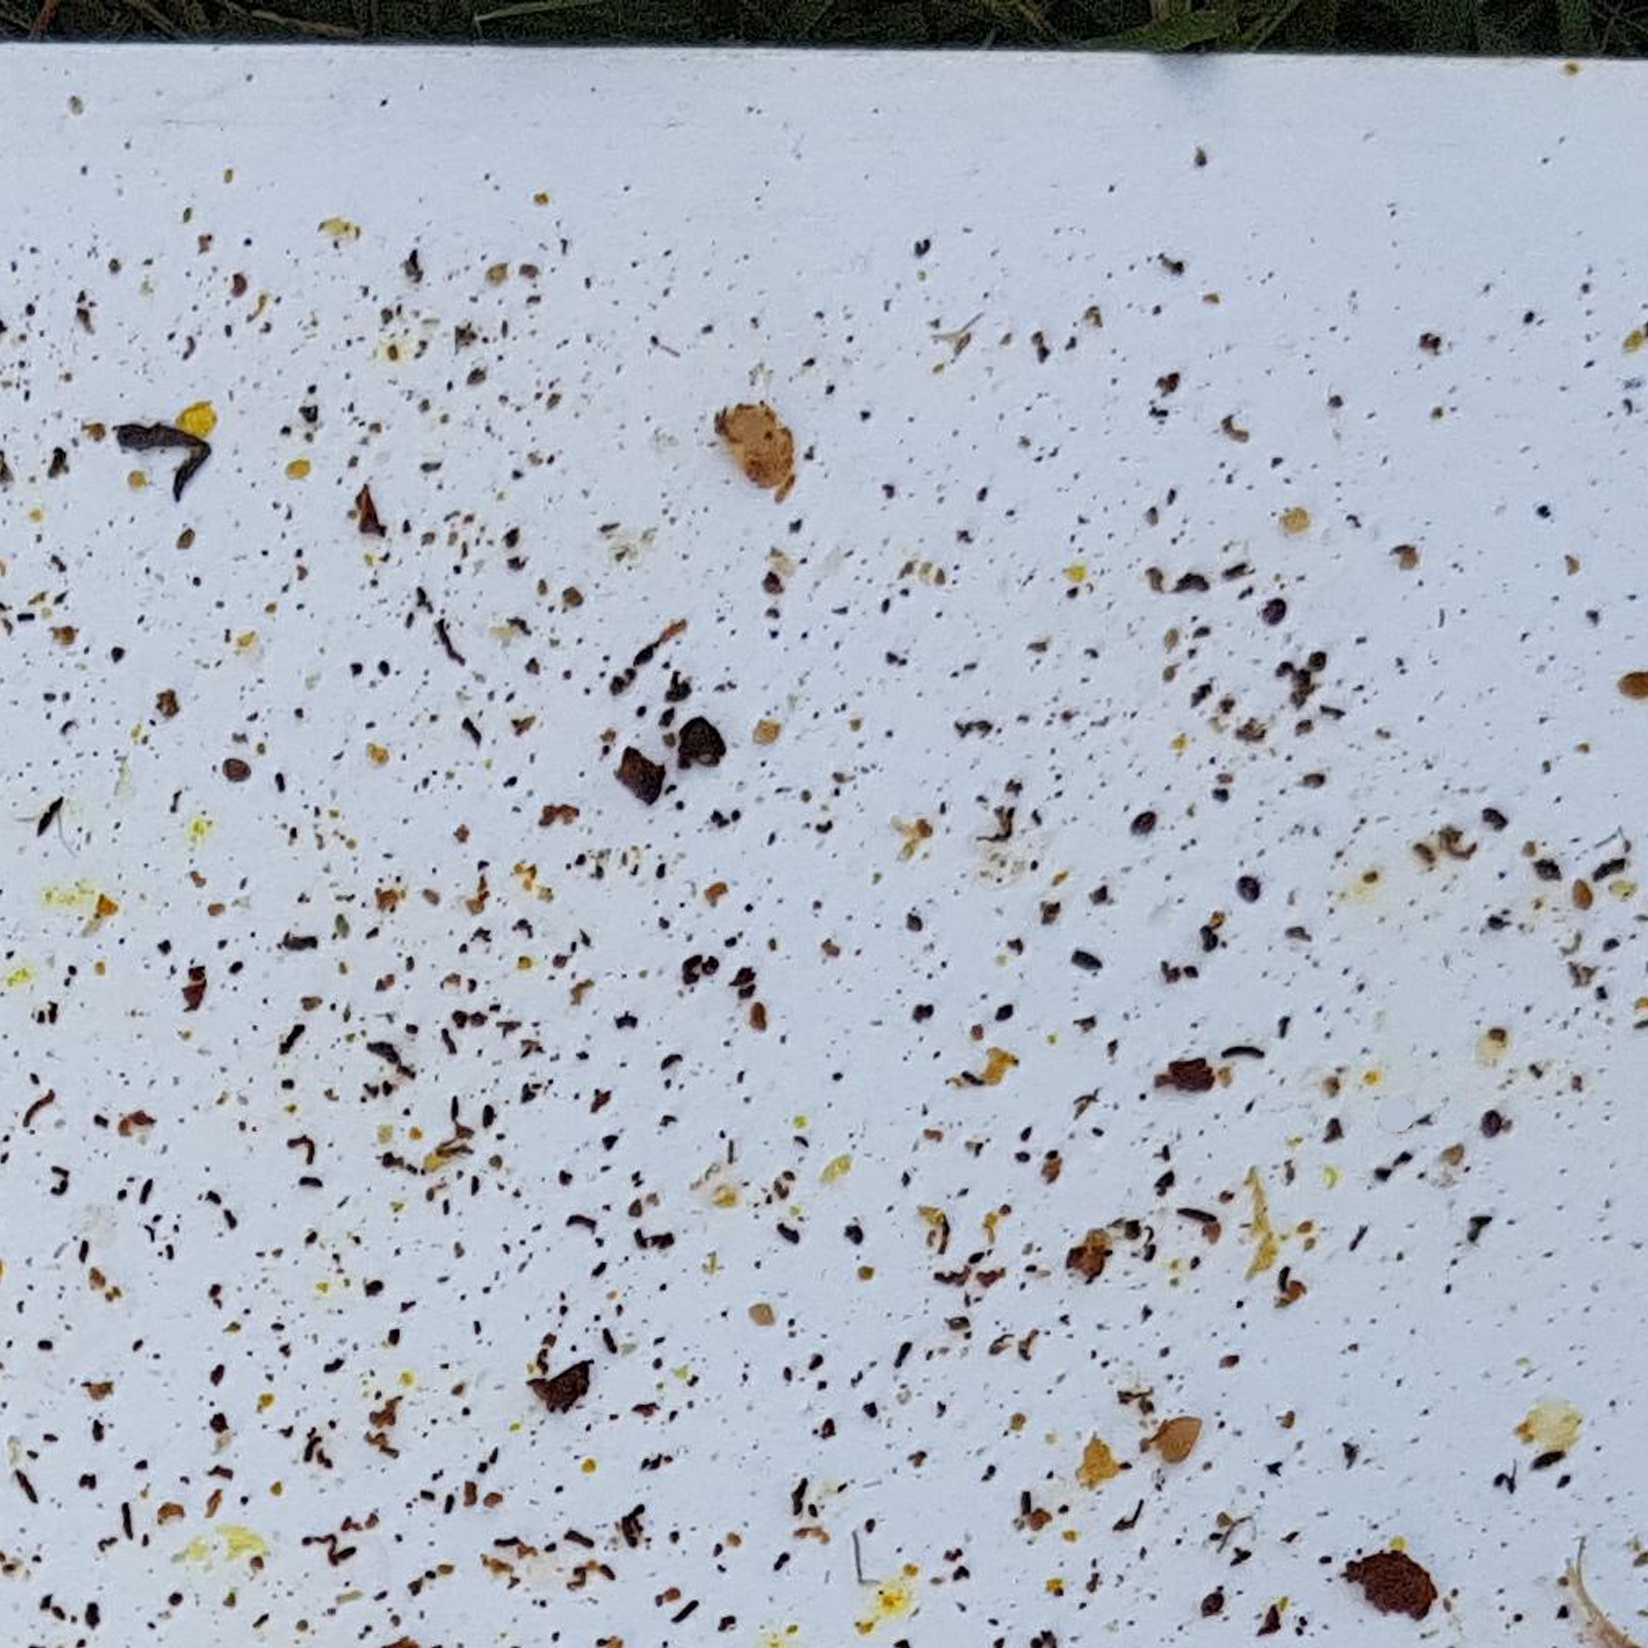Varroa: (1191, 1591, 1225, 1621), (1471, 1112, 1499, 1150), (1260, 602, 1293, 632), (223, 756, 254, 786), (1127, 810, 1158, 841), (1234, 875, 1259, 899)
